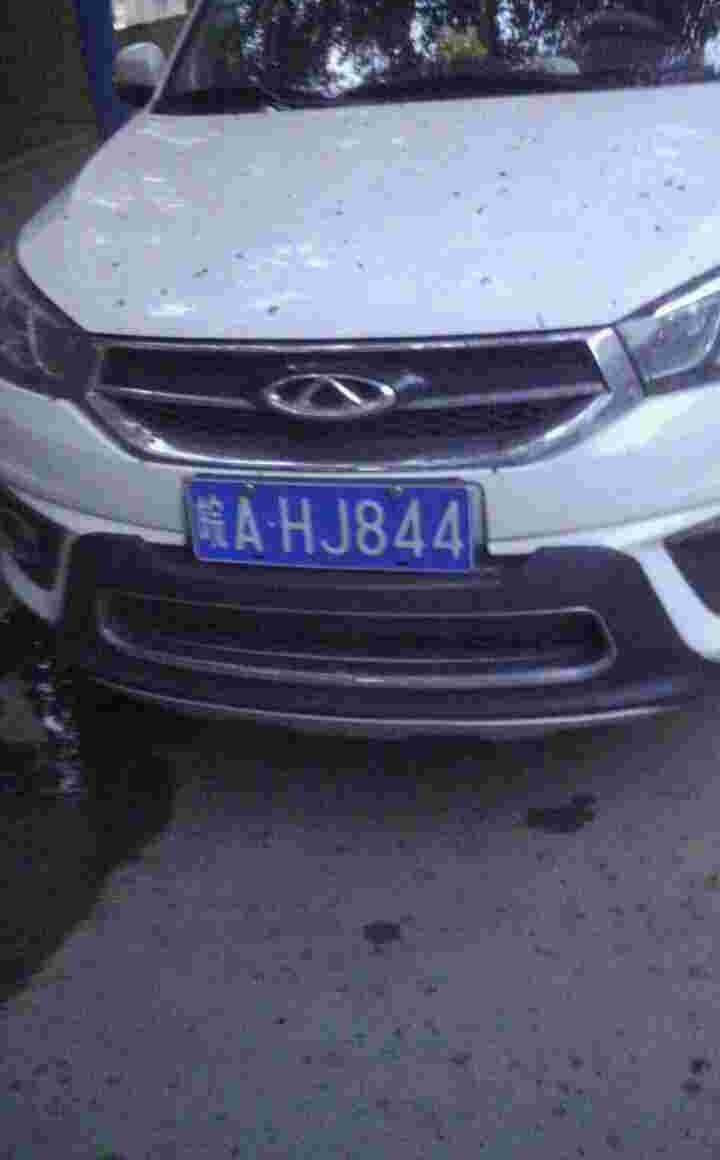license_plate: (187, 478, 496, 581)
